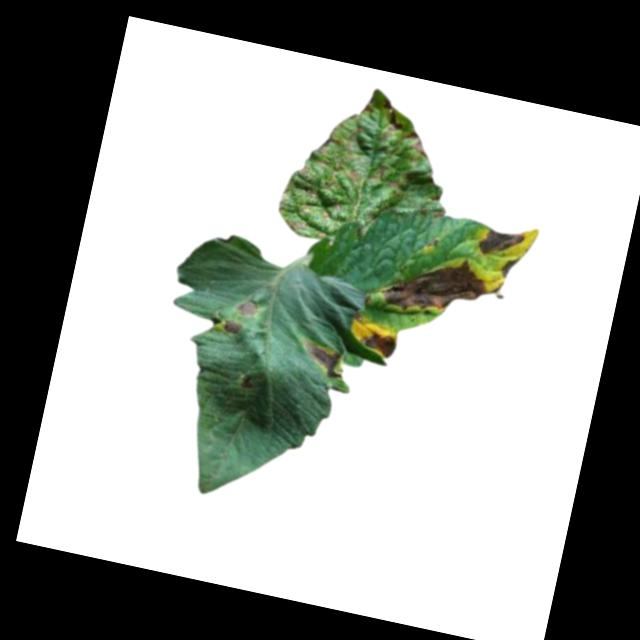Early_blight: (377, 243, 494, 329), (297, 338, 349, 382), (476, 225, 527, 263), (359, 327, 404, 363), (375, 100, 405, 147), (397, 129, 434, 162), (220, 318, 246, 341), (501, 256, 522, 283), (234, 297, 257, 320)
